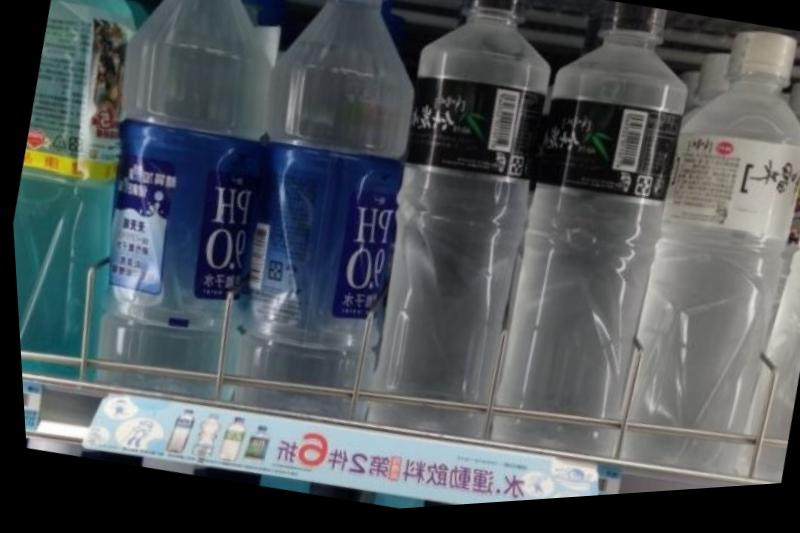plastic: (363, 6, 681, 487), (80, 0, 305, 395), (207, 0, 412, 418), (630, 34, 799, 481), (15, 0, 145, 379)
